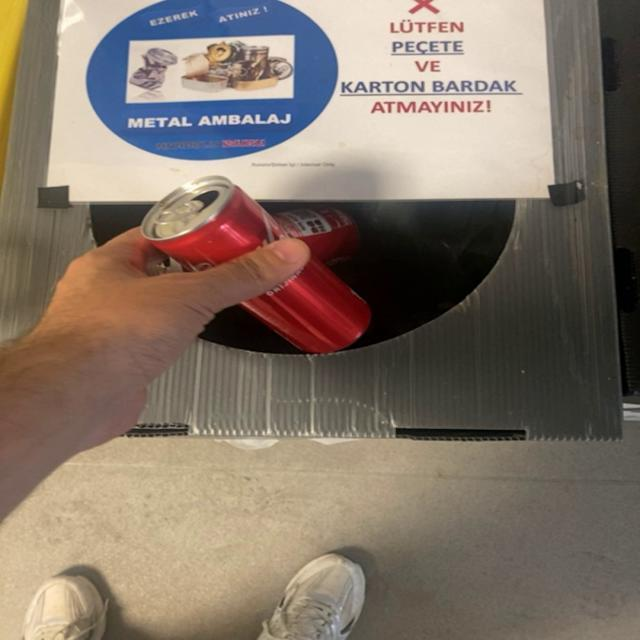Bin: (129, 0, 622, 441), (2, 0, 143, 340)
Metal: (139, 175, 354, 271), (242, 251, 370, 353)
